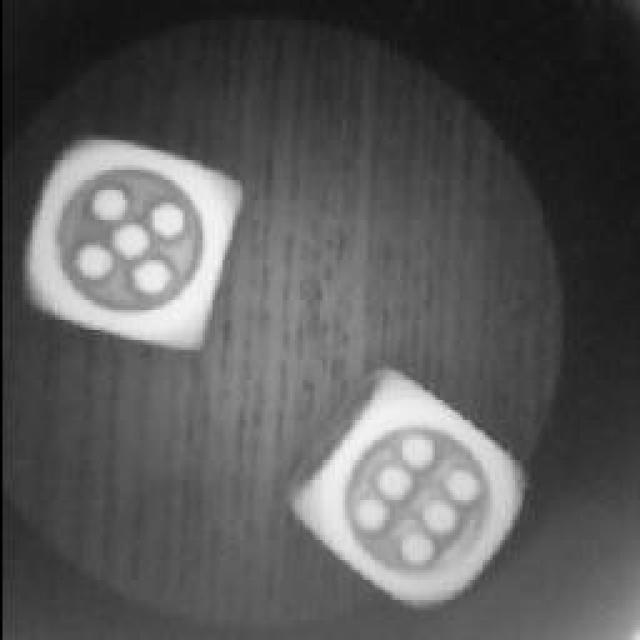dice_5: (15, 138, 247, 362)
dice_6: (298, 382, 530, 618)
